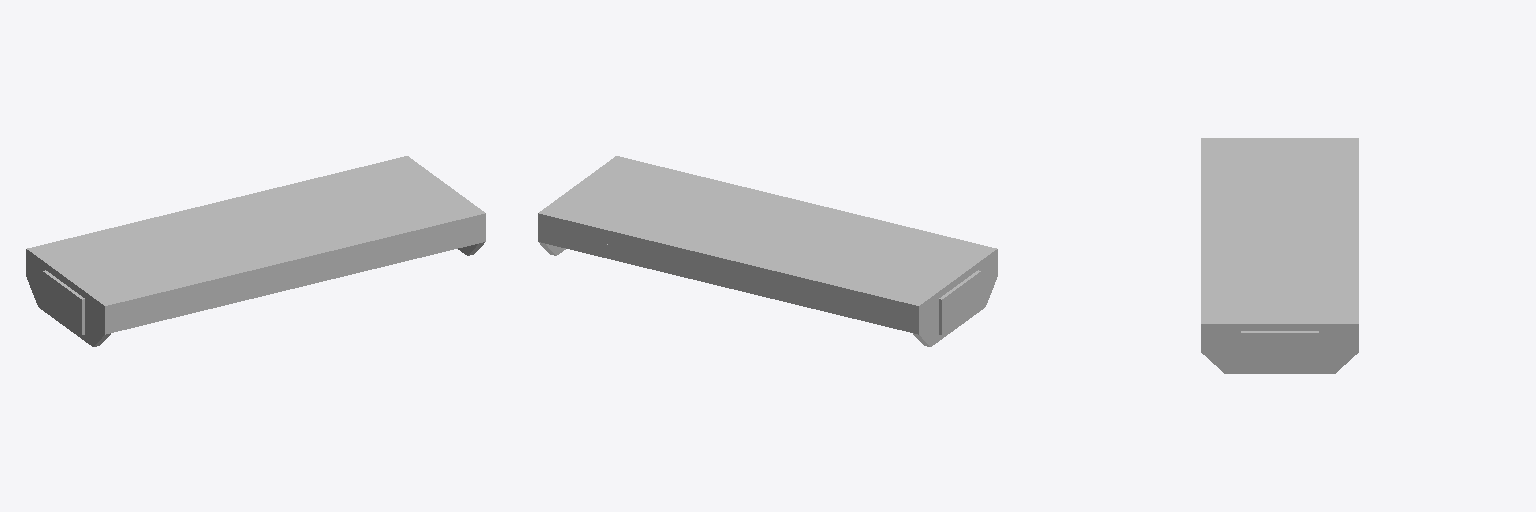
Rendered from celinglightsbythecoolantonio.obj.
The picture shows the model from 3 angles: view 1: azimuth 30°, elevation 25°; view 2: azimuth 150°, elevation 25°; view 3: azimuth 270°, elevation 25°; orthographic projection.
Parts seen in each view (by area): view 1: NeonFrame1, Union1; view 2: NeonFrame1, Union1; view 3: NeonFrame1, Union1.
Part boxes in pixels (x1,y1,x2,y2): NeonFrame1: (26, 156, 485, 346); Union1: (43, 270, 84, 334); NeonFrame1: (538, 156, 997, 346); Union1: (939, 270, 980, 334); NeonFrame1: (1201, 138, 1358, 373); Union1: (1241, 331, 1318, 367).
Bounding box in the file's own units: 5.69 × 0.7 × 2.